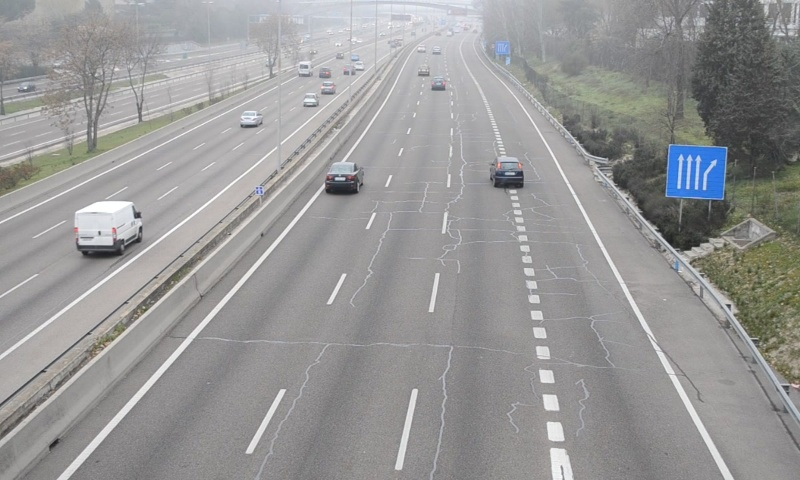car: (326, 162, 362, 190), (490, 158, 524, 187), (430, 76, 446, 92)
